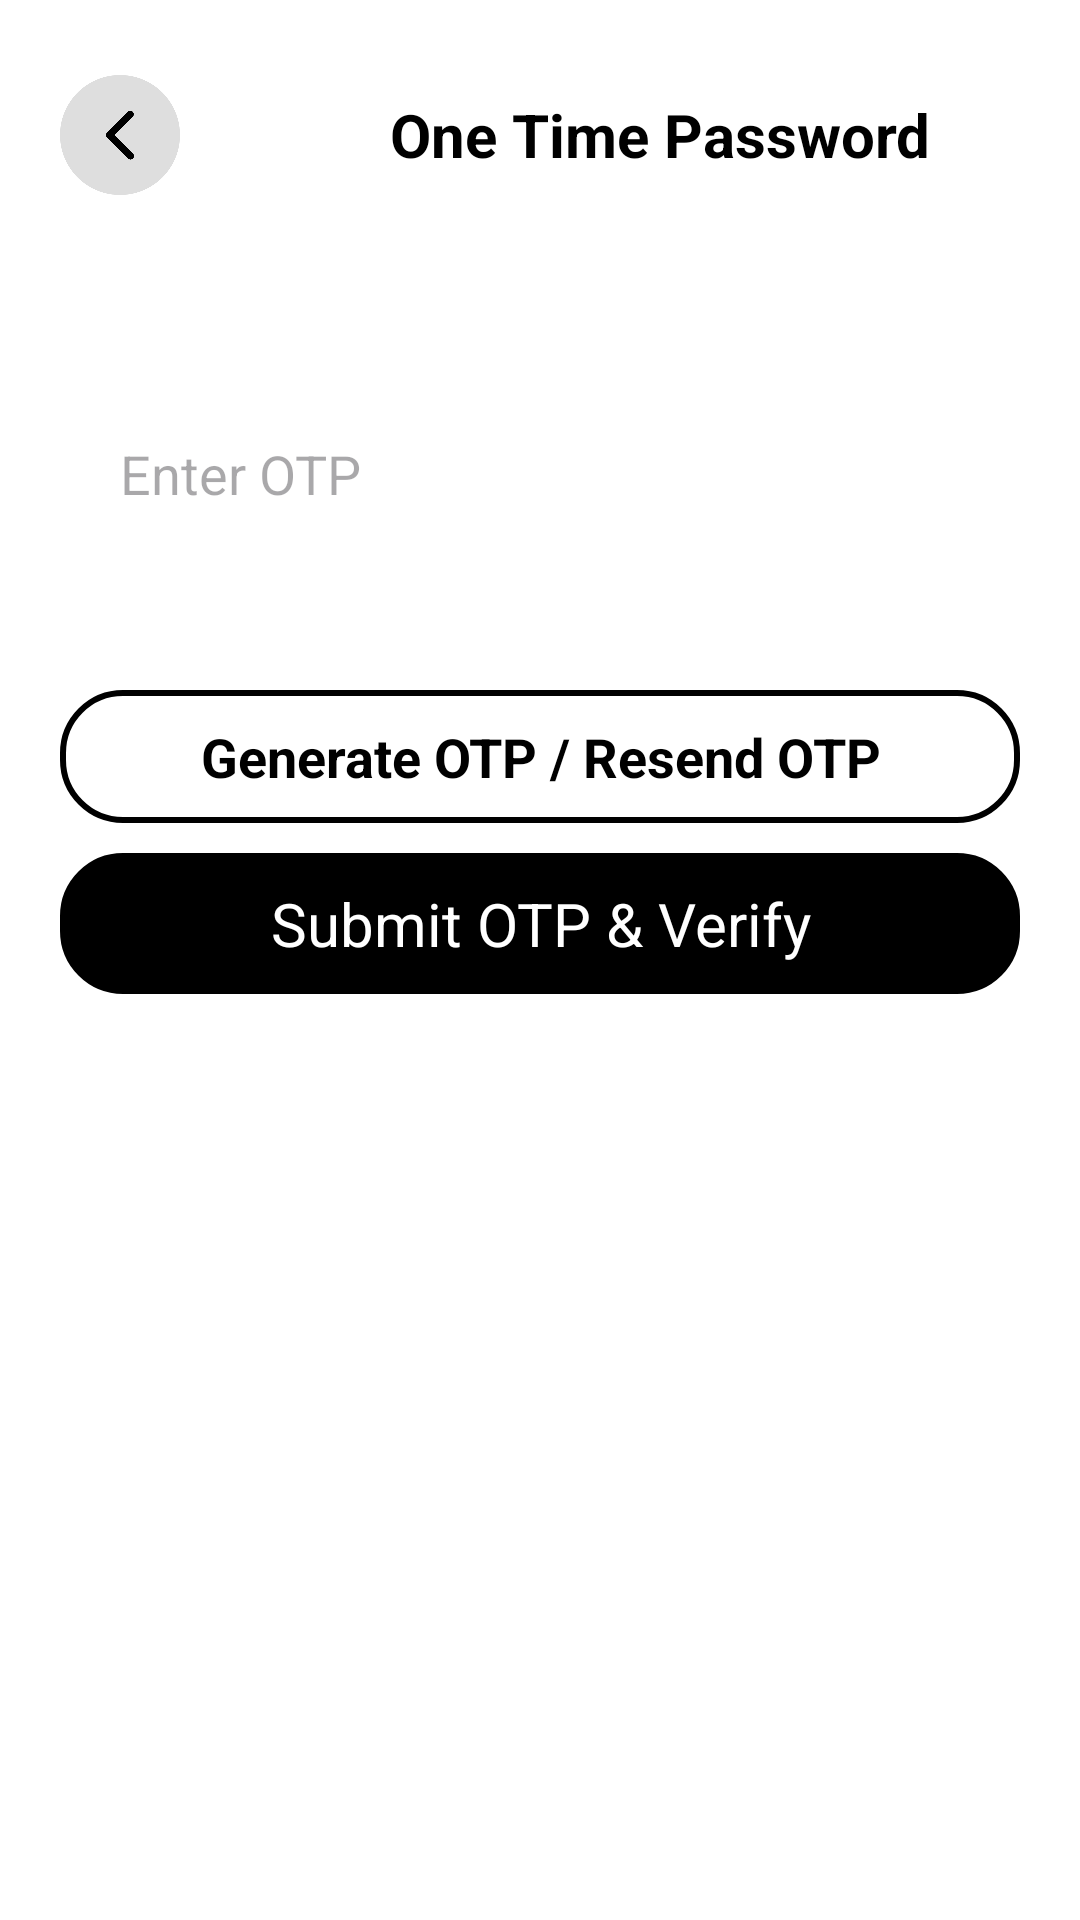

Named icons in this screenshot (1080×1920) and their bounding boxes, (x1, y1, x2, y2):
lefttt: (60, 75, 180, 195)
